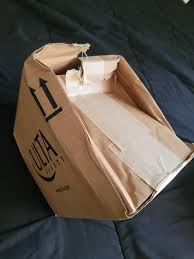damaged package: (109, 55, 174, 130), (30, 38, 94, 109)
